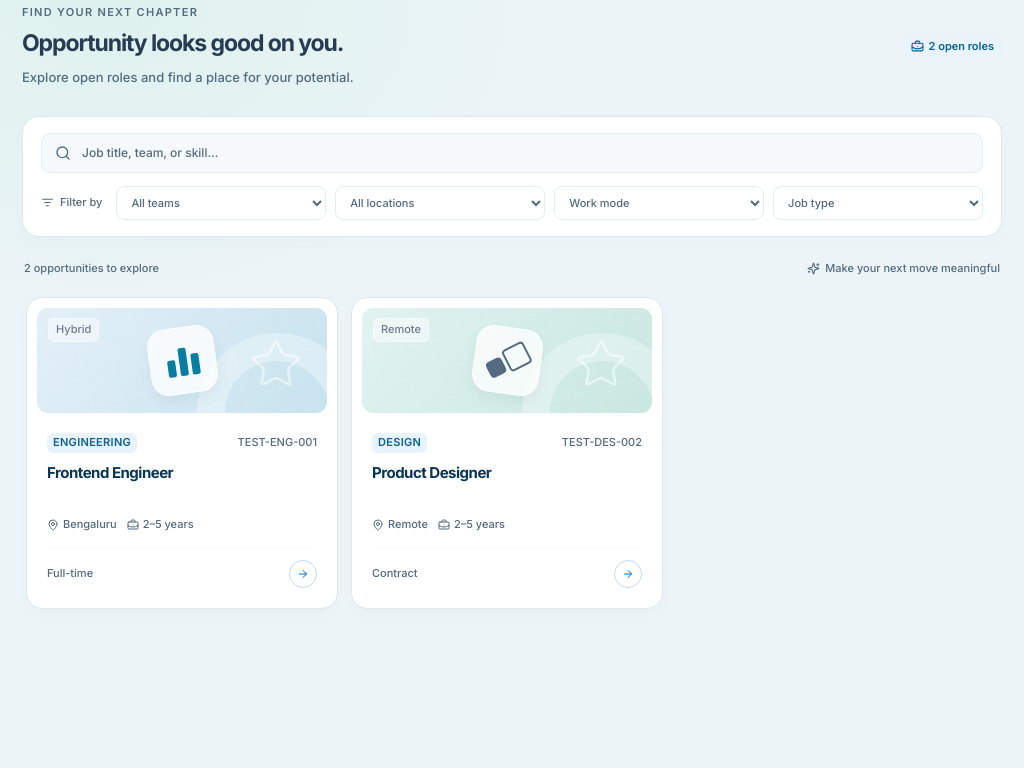
it: public opportunities › lists API jobs and applies search, team, location, work mode, and contract filters together
The width and height of the screenshot is (1024, 768).
Expected: the link "Frontend Engineer" is shown, [47,462,173,482]
Expected: the link "Product Designer" is shown, [372,462,491,482]
Type "Figma" into the field named "Search jobs" at (526, 152), box [82,143,969,162]
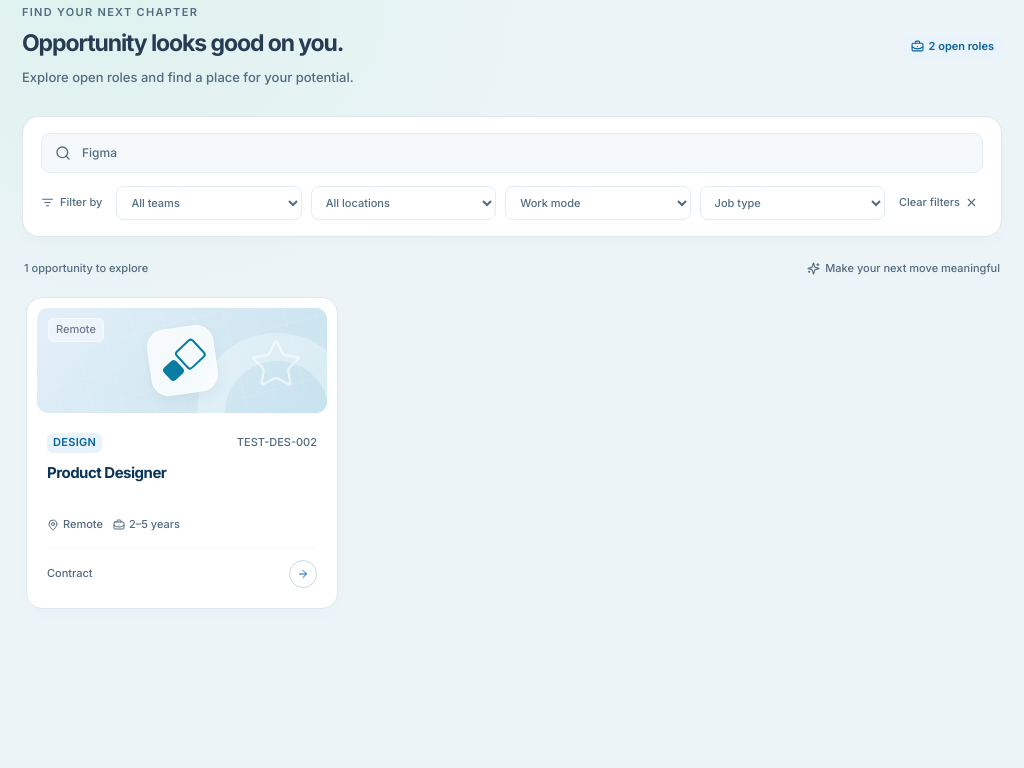
Expected: the link "Frontend Engineer" is gone
Select "Design" in the dropdown named "department" at (209, 202), box [116,186,302,220]
Select "Remote" in the dropdown named "location" at (404, 202), box [311,186,496,220]
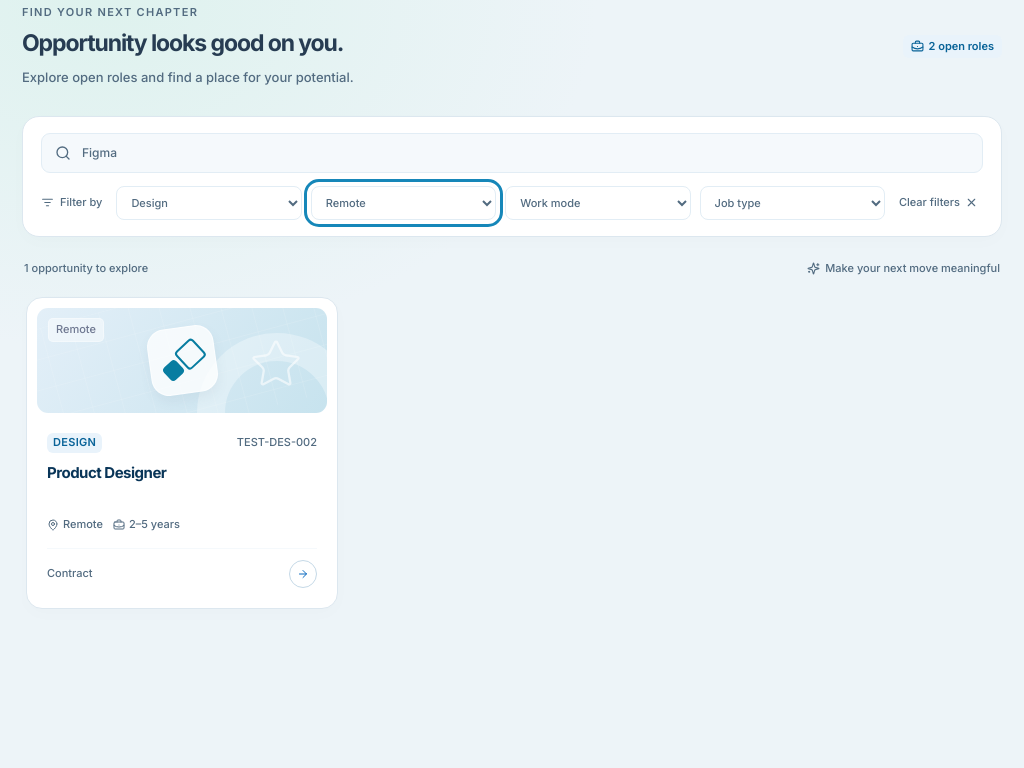
Select "Remote" in the dropdown named "work mode" at (598, 202), box [505,186,691,220]
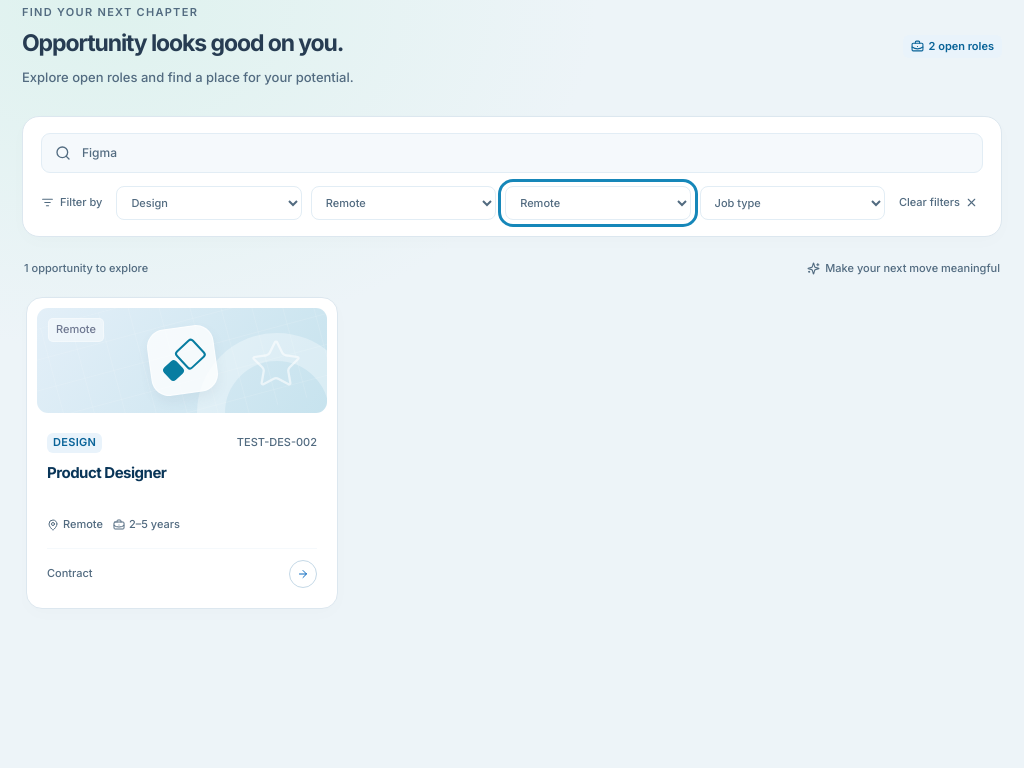
Select "Contract" in the dropdown named "employment type" at (792, 202), box [700,186,885,220]
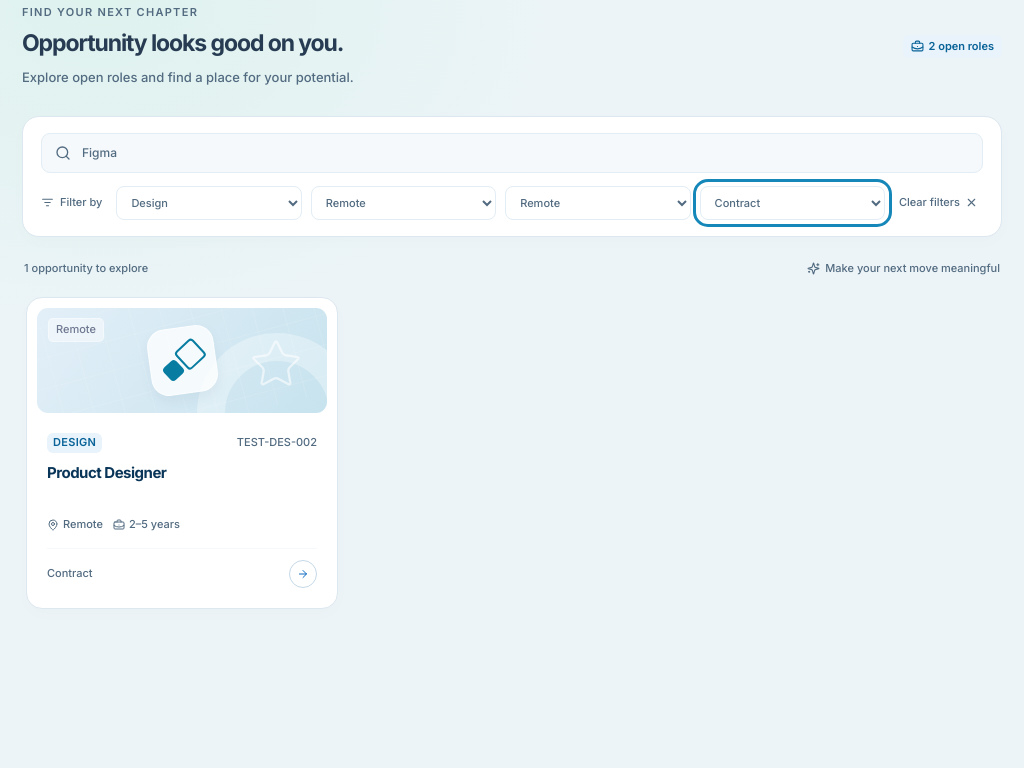
Expected: the text "1 opportunity to explore" is shown, [24,260,148,277]
Select "Engineering" in the dropdown named "department" at (209, 202), box [116,186,302,220]
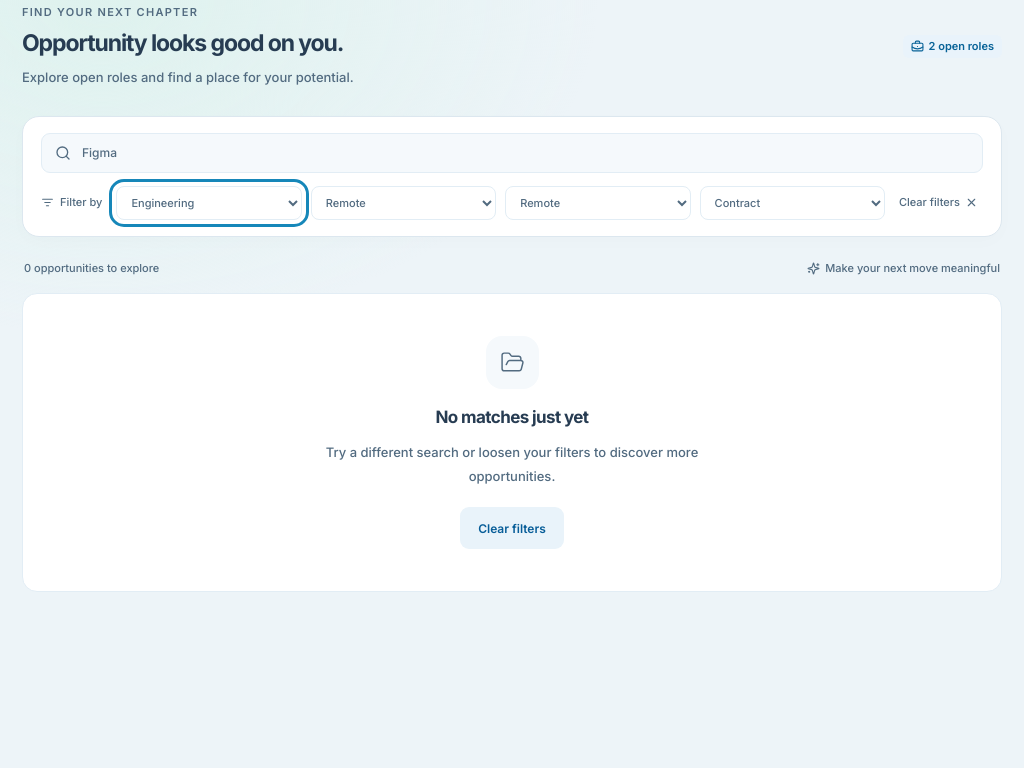
Expected: the heading "No matches just yet" is shown, [436,406,588,428]
Click the button "Clear filters" in the row of "Filter by" at (938, 202), box [894,187,983,218]
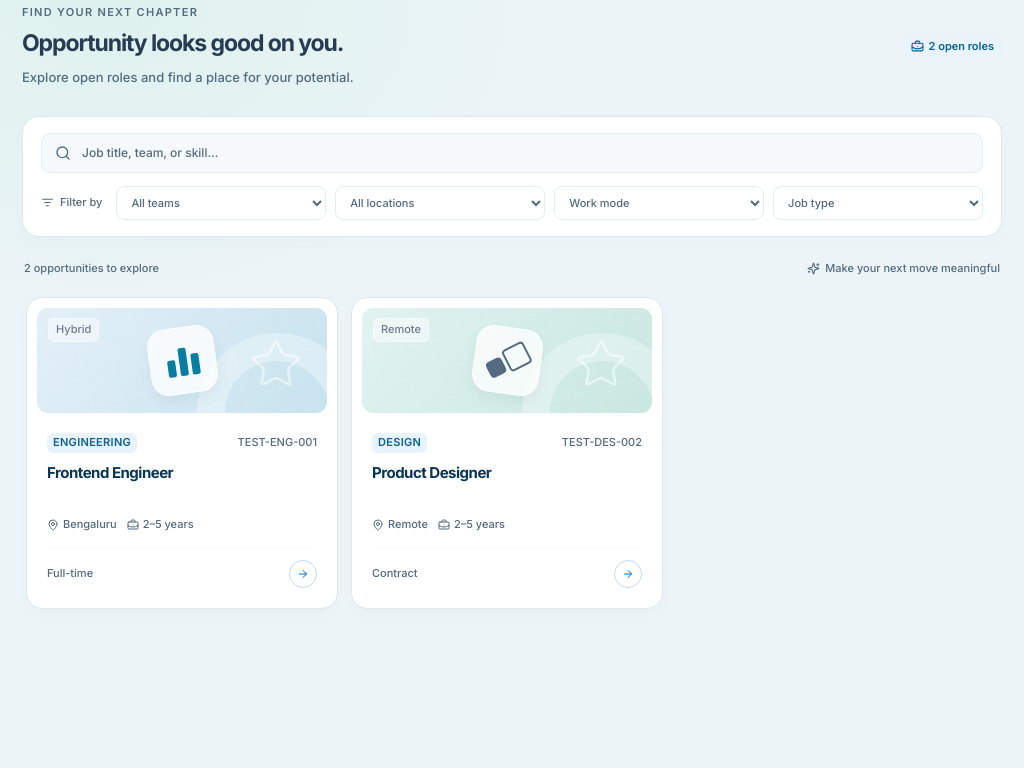
Expected: the link "Frontend Engineer" is shown, [47,462,173,482]
Expected: the link "Product Designer" is shown, [372,462,491,482]
